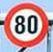Gioi han toc do: (2, 1, 50, 47)
